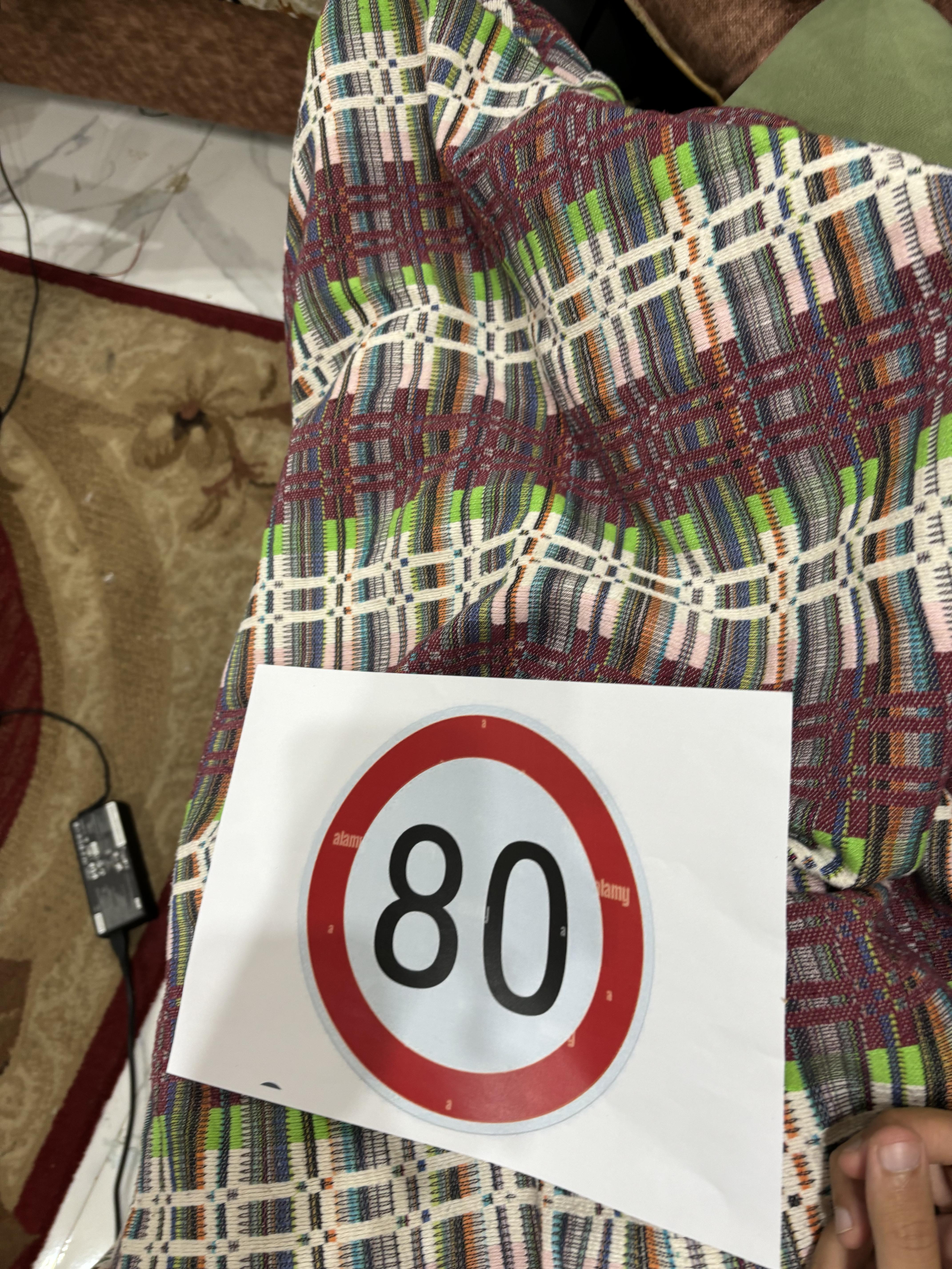80-Speed: (289, 702, 655, 1141)
